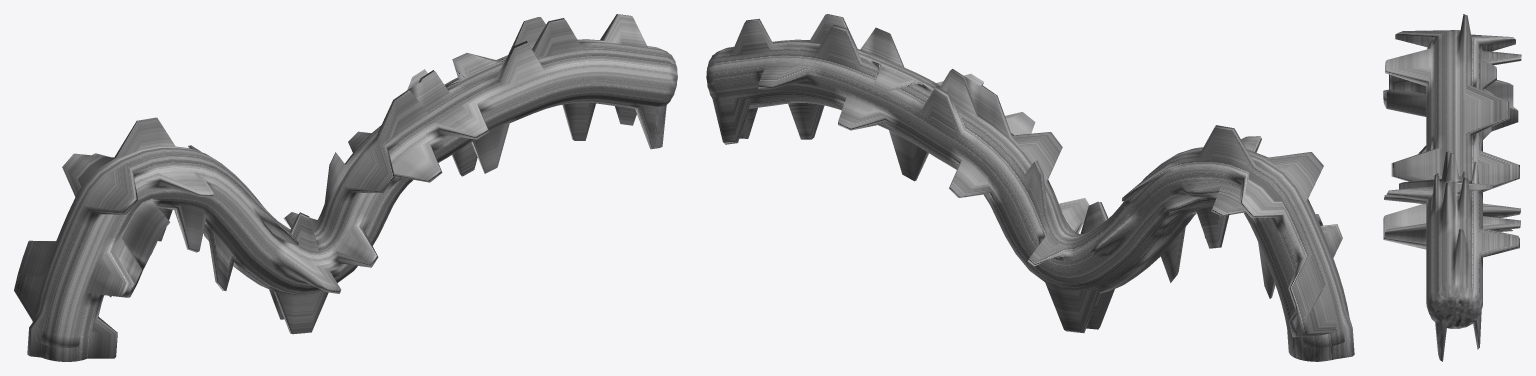
File: long-stick_cursed.fbx
The picture shows the model from 3 angles, left to right: view 1: azimuth 30°, elevation 25°; view 2: azimuth 150°, elevation 25°; view 3: azimuth 270°, elevation 25°; orthographic projection. The views are drawn at different scales.
Visible parts, largest first — view 1: pasted__pCylinder2, pCylinder2; view 2: pasted__pCylinder2, pCylinder2; view 3: pasted__pCylinder2.
Boxes of the visible parts, x1,y1,x2,y2 form: pasted__pCylinder2: [14, 14, 677, 361]; pCylinder2: [32, 62, 503, 347]; pasted__pCylinder2: [706, 14, 1354, 361]; pCylinder2: [750, 60, 1344, 347]; pasted__pCylinder2: [1383, 14, 1521, 361].
Bounding box in the file's own units: 22.93 × 8.61 × 4.81.
